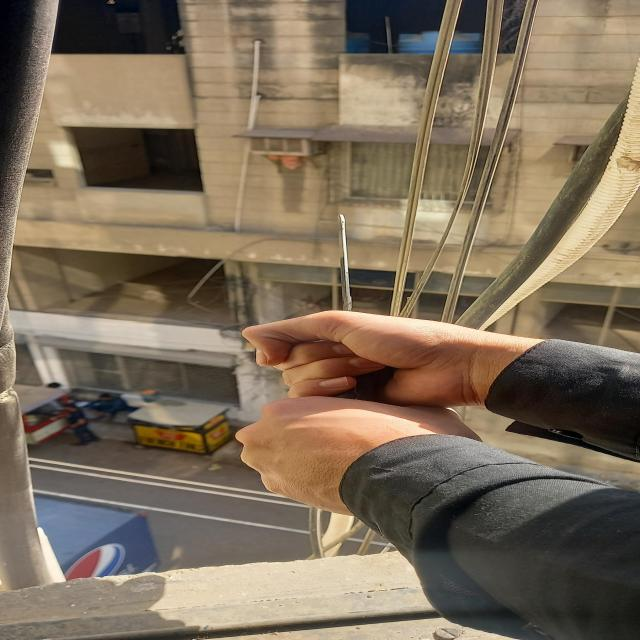weapon: (339, 214, 354, 310)
